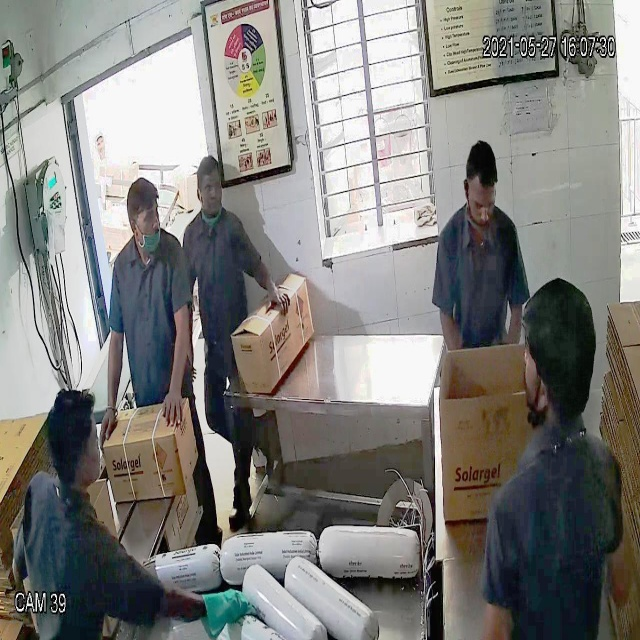Sin_gafas: (124, 200, 164, 239), (463, 181, 498, 220)
